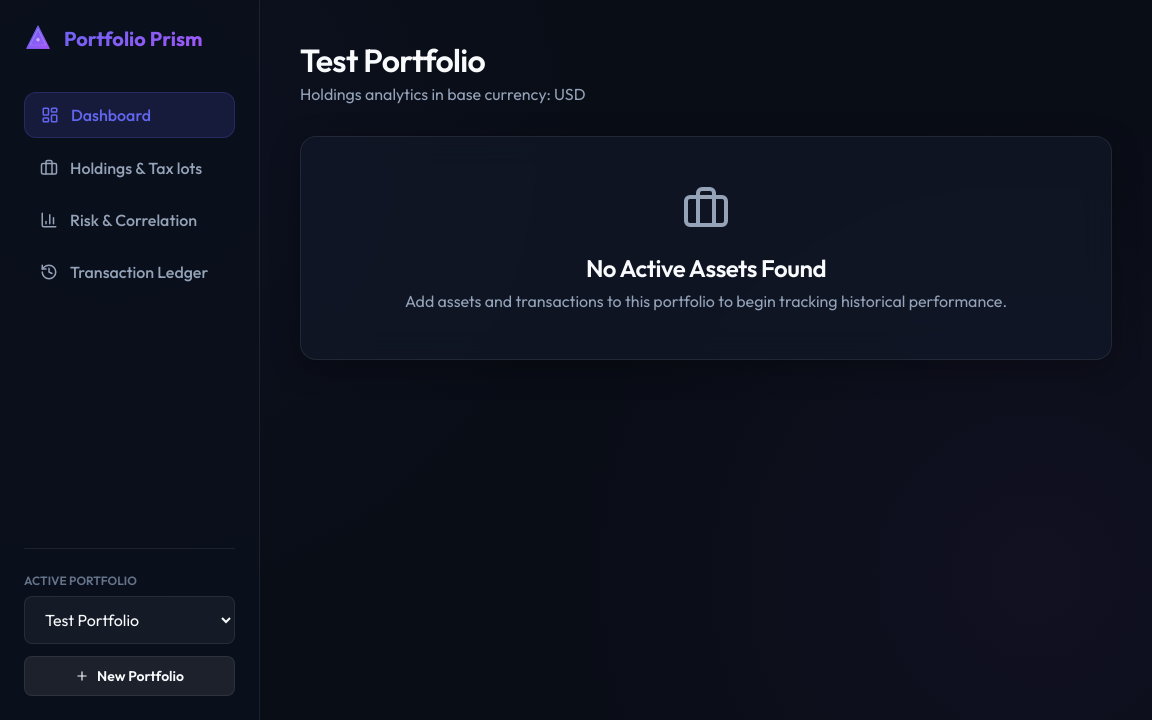
App ledger › renders SPLIT transactions in the transaction ledger
The image size is (1152, 720).
Step 1. Click the list item "Transaction Ledger" → click(124, 272), box top-left (40, 262), bottom-right (208, 282)
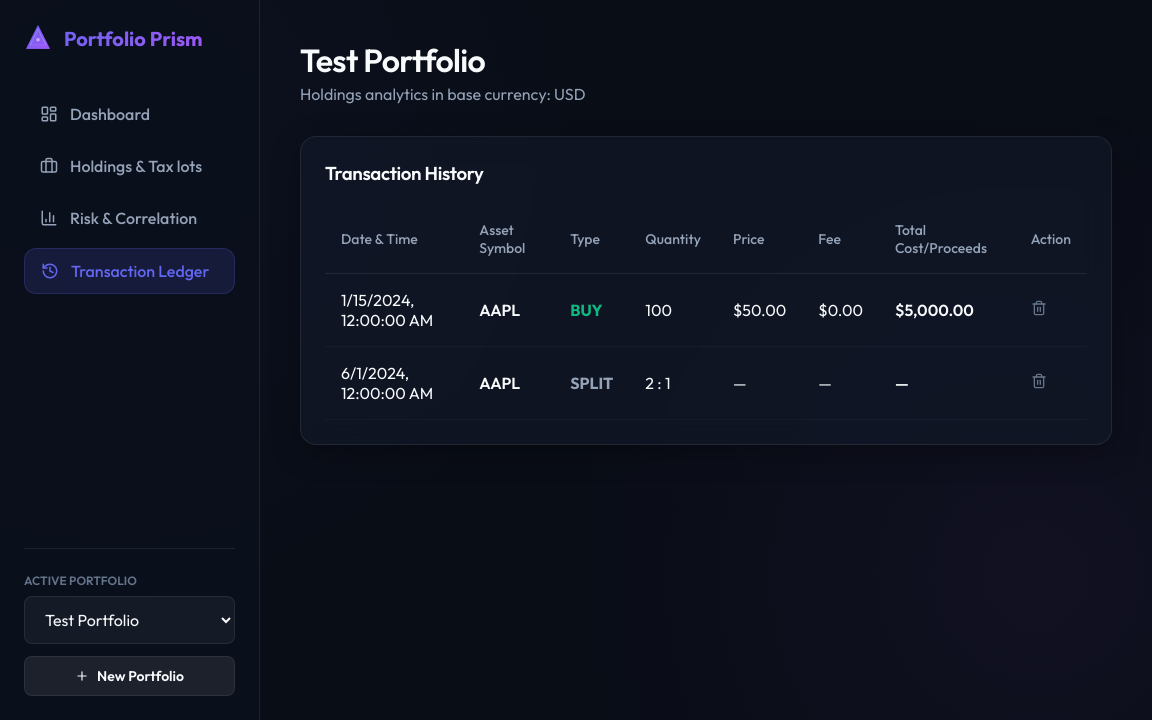
Expected: the text "2 : 1" is shown, top-left (629, 346), bottom-right (717, 420)
Expected: the 1st text "—" is shown, top-left (717, 346), bottom-right (802, 420)
